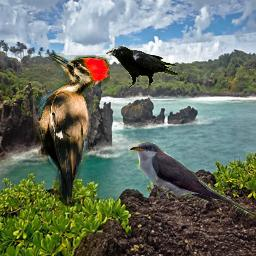Crow: (104, 46, 178, 88)
Cuckoo: (128, 142, 255, 218)
Woodpecker: (31, 53, 110, 207)
